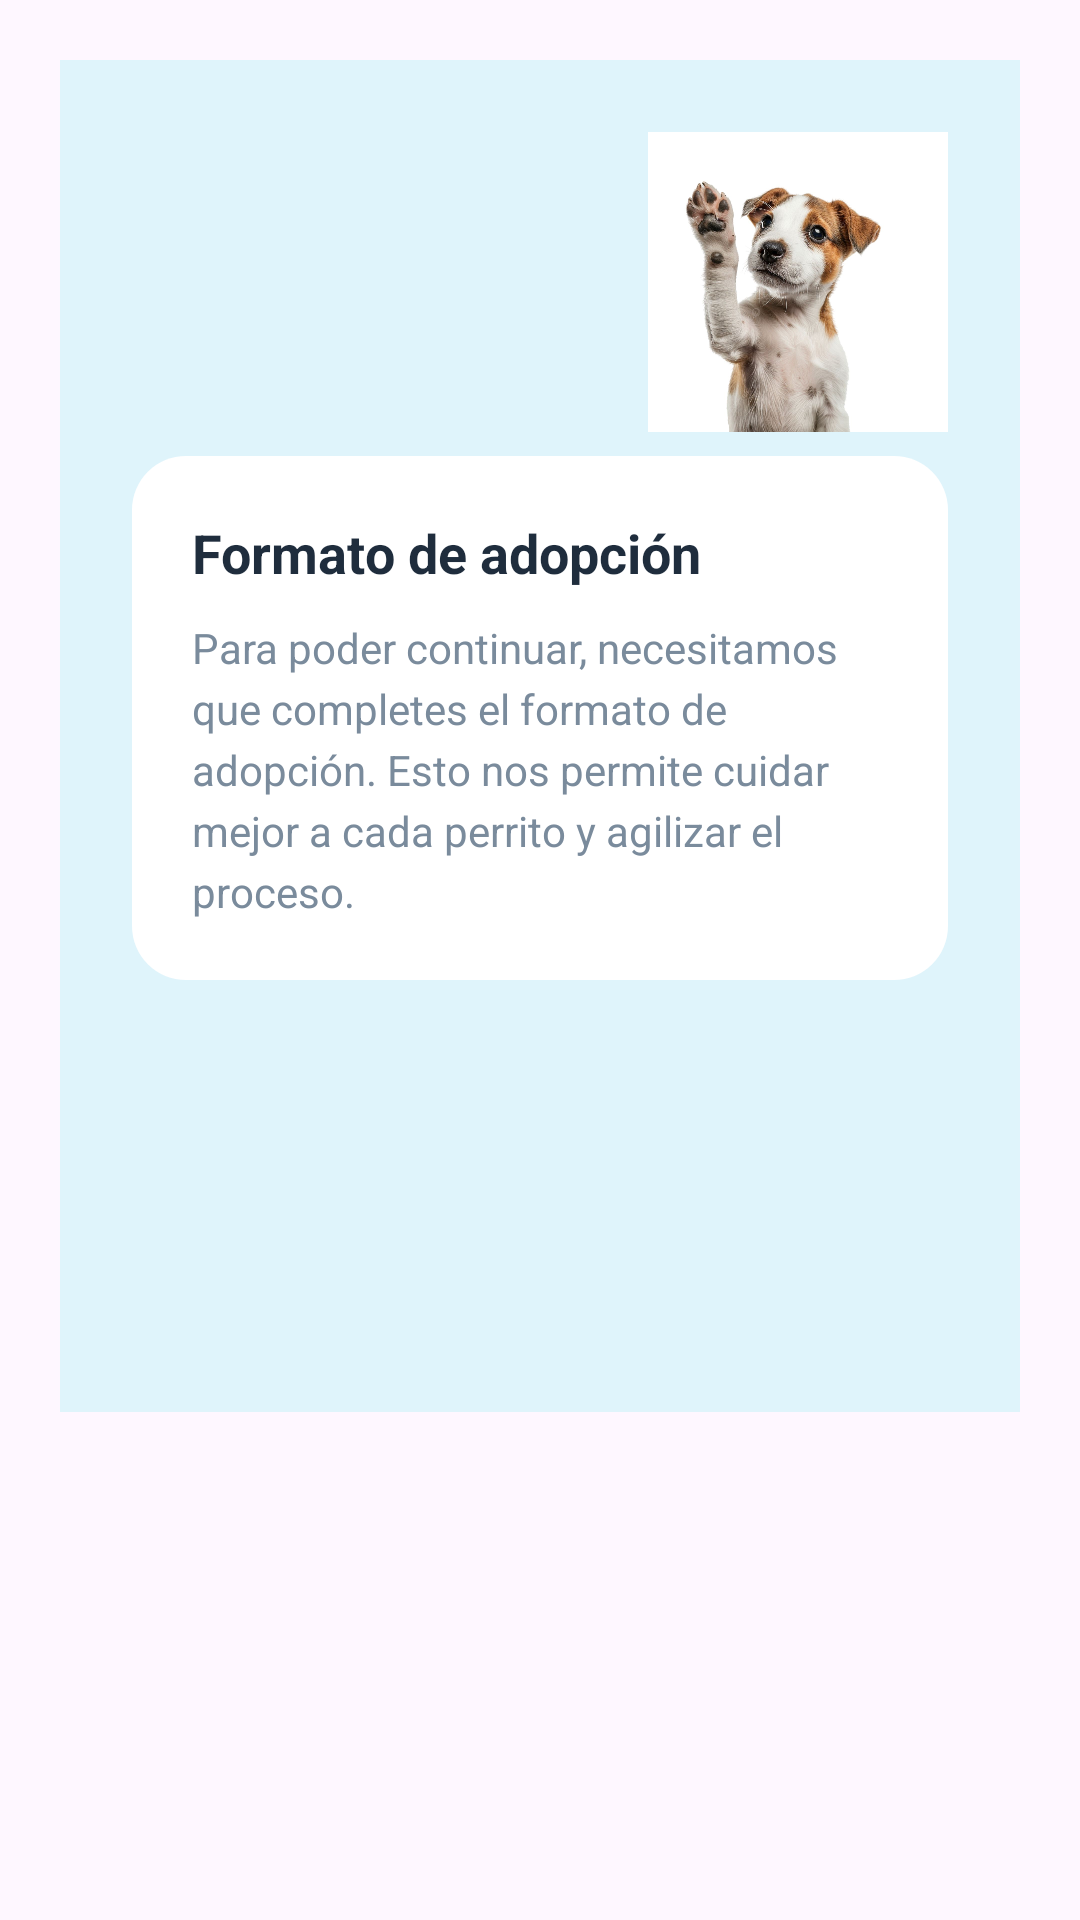

Icon click points for this 1080px x 1920px phone screenshot, format [x,y]:
dog: [798,282]
